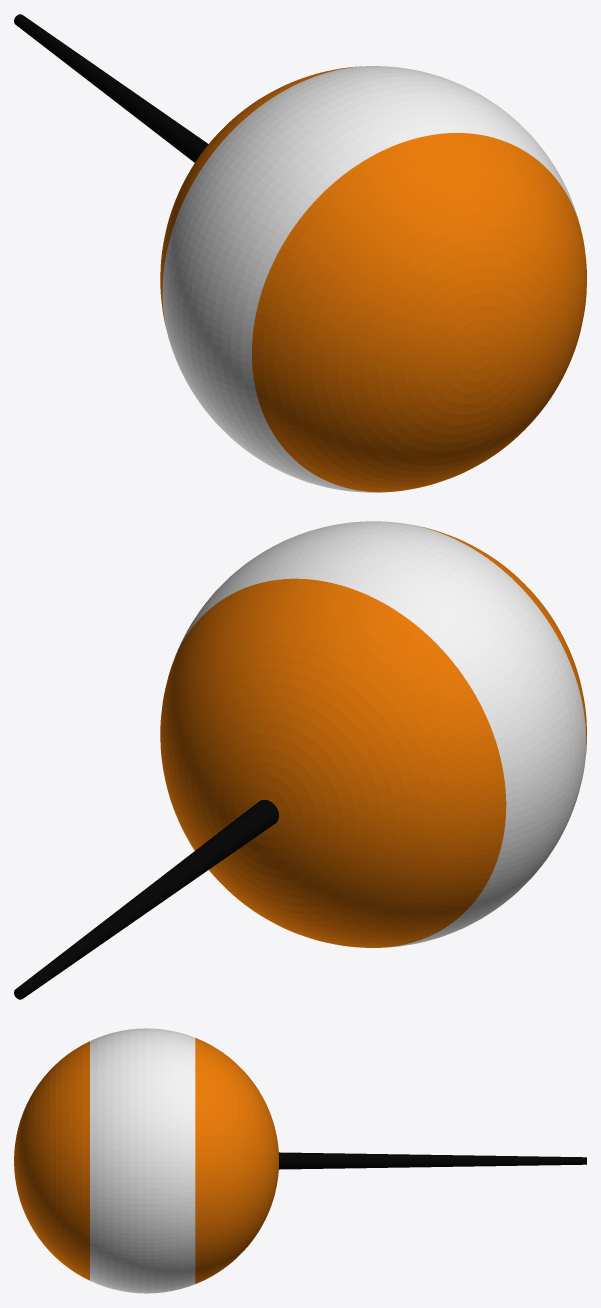
File: princetonM.glb
The picture shows the model from 3 angles, top to bottom: view 1: azimuth 30°, elevation 25°; view 2: azimuth 150°, elevation 25°; view 3: azimuth 270°, elevation 25°; orthographic projection. The views are drawn at different scales.
Parts seen in each view (by area): view 1: Sphere.022; view 2: Sphere.022; view 3: Sphere.022.
Part boxes in pixels (bbox=[...]): Sphere.022: bbox=[14, 14, 586, 492]; Sphere.022: bbox=[14, 521, 586, 999]; Sphere.022: bbox=[14, 1028, 586, 1293].
Size of the model in its own units: 0.9998 by 1 by 2.16.
